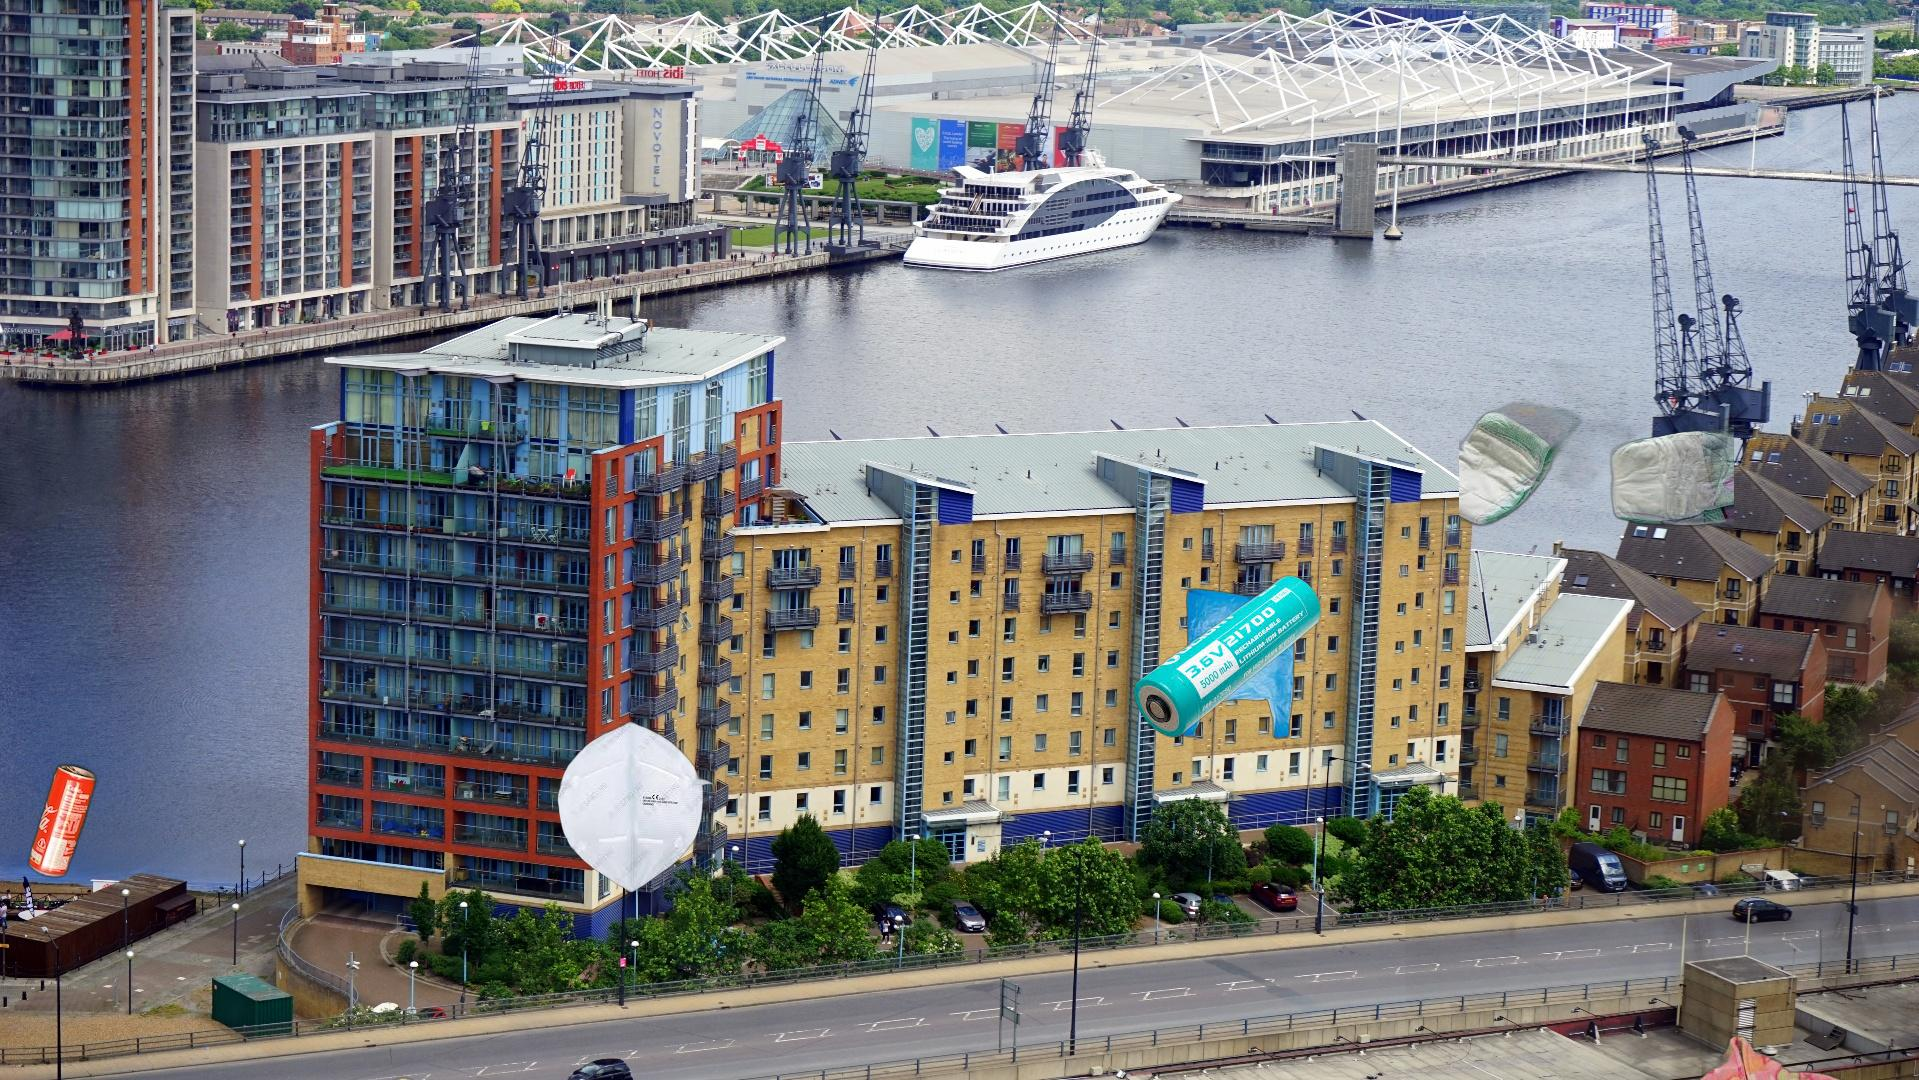battery: (1131, 574, 1325, 740)
clothes: (1537, 1033, 1919, 1080)
metal-cans: (22, 758, 101, 884)
plastic-bag: (1180, 585, 1302, 741)
shoes: (316, 1073, 547, 1080)
trash: (1459, 359, 1734, 542), (496, 717, 731, 905)
trashbox-cardboard: (1405, 204, 1919, 1080)
